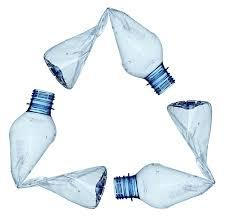Plastic bottle: (31, 5, 183, 92), (110, 97, 224, 213), (8, 90, 112, 213)
